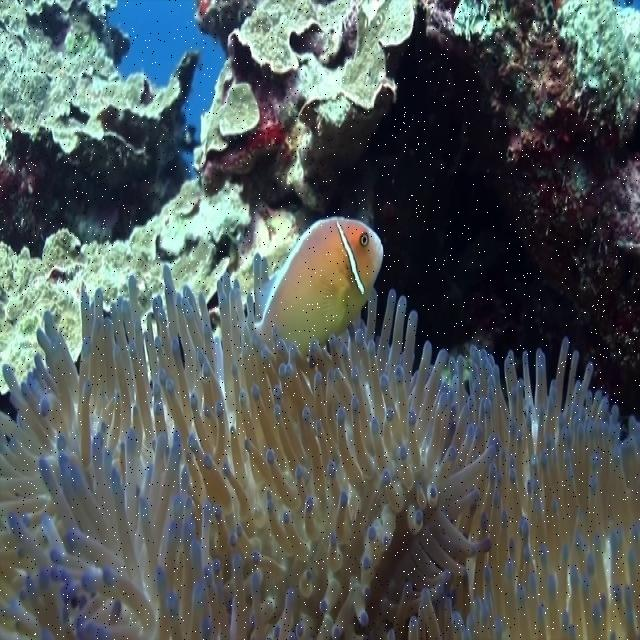fish: (254, 217, 385, 351)
reefs: (0, 257, 639, 639)
